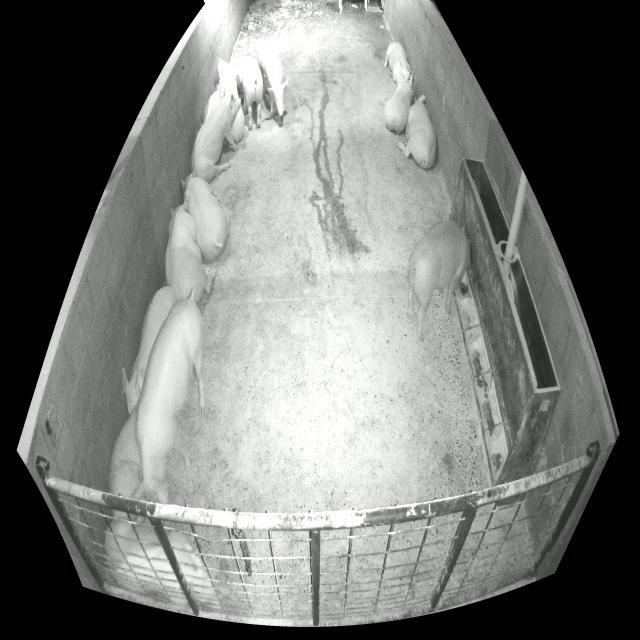pig: (132, 289, 205, 504), (104, 521, 216, 607), (408, 221, 469, 342), (122, 286, 175, 414), (165, 197, 216, 304), (190, 87, 242, 183), (182, 167, 230, 260), (110, 405, 143, 496), (397, 95, 436, 169), (259, 41, 288, 116), (238, 56, 263, 131), (385, 75, 415, 134), (384, 42, 414, 86), (216, 58, 241, 102), (201, 91, 220, 128)
